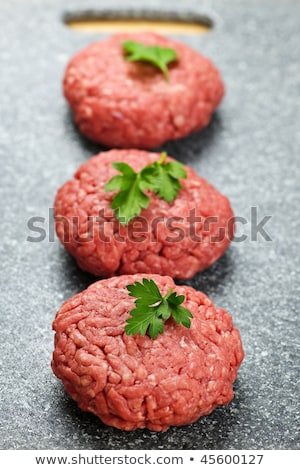ground_beef: (45, 286, 252, 438), (55, 151, 244, 281), (66, 32, 224, 152)
